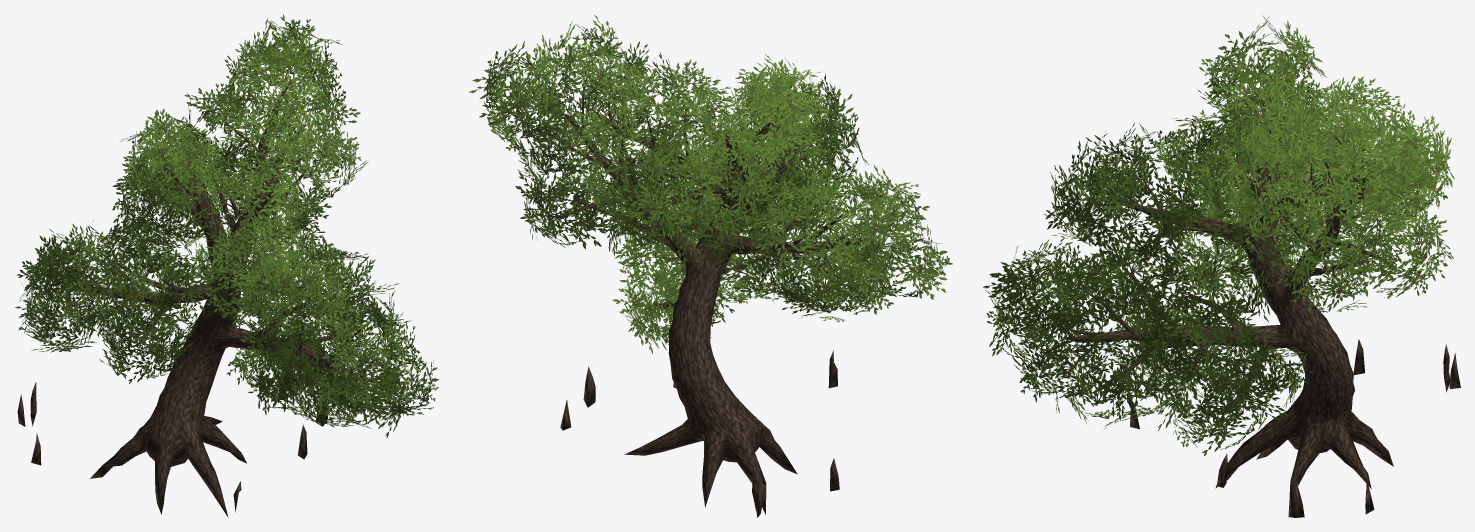
Rendered from Oak_04.glb.
The picture shows the model from 3 angles, left to right: view 1: azimuth 30°, elevation 25°; view 2: azimuth 150°, elevation 25°; view 3: azimuth 270°, elevation 25°; orthographic projection. The views are drawn at different scales.
Visible parts, largest first — view 1: Leaves, Trunk; view 2: Leaves, Trunk; view 3: Leaves, Trunk.
Part boxes in pixels (x1=…): Leaves: x1=15, y1=14, x2=438, y2=438; Trunk: x1=17, y1=68, x2=407, y2=517; Leaves: x1=469, y1=15, x2=952, y2=353; Trunk: x1=524, y1=69, x2=905, y2=517; Leaves: x1=983, y1=16, x2=1454, y2=455; Trunk: x1=1031, y1=70, x2=1460, y2=517.
Bounding box in the file's own units: 12.43 × 12.91 × 11.94.
2 materials, 2 textured.
